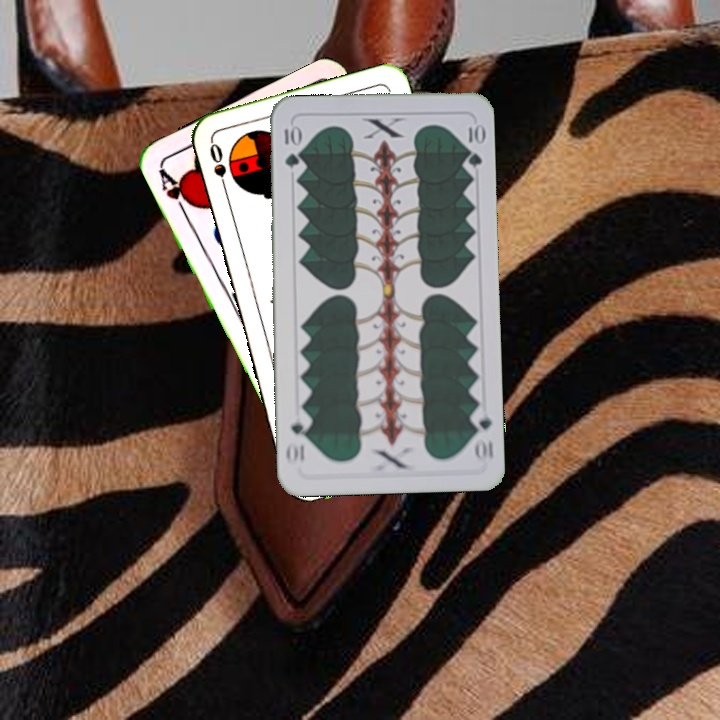G10: (468, 405, 496, 464), (280, 121, 301, 170)
HA: (154, 164, 197, 218)
SO: (205, 138, 231, 196)
